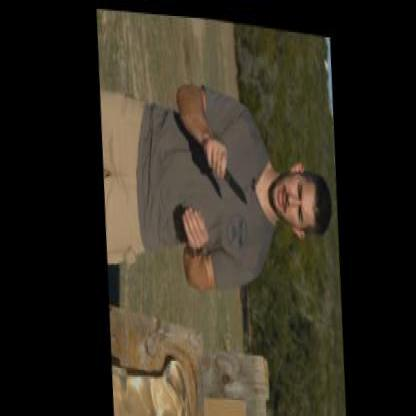knife: (199, 136, 250, 211)
